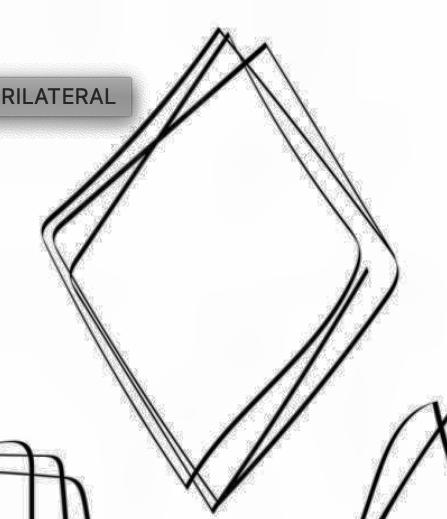Decision: (1, 0, 447, 519)
